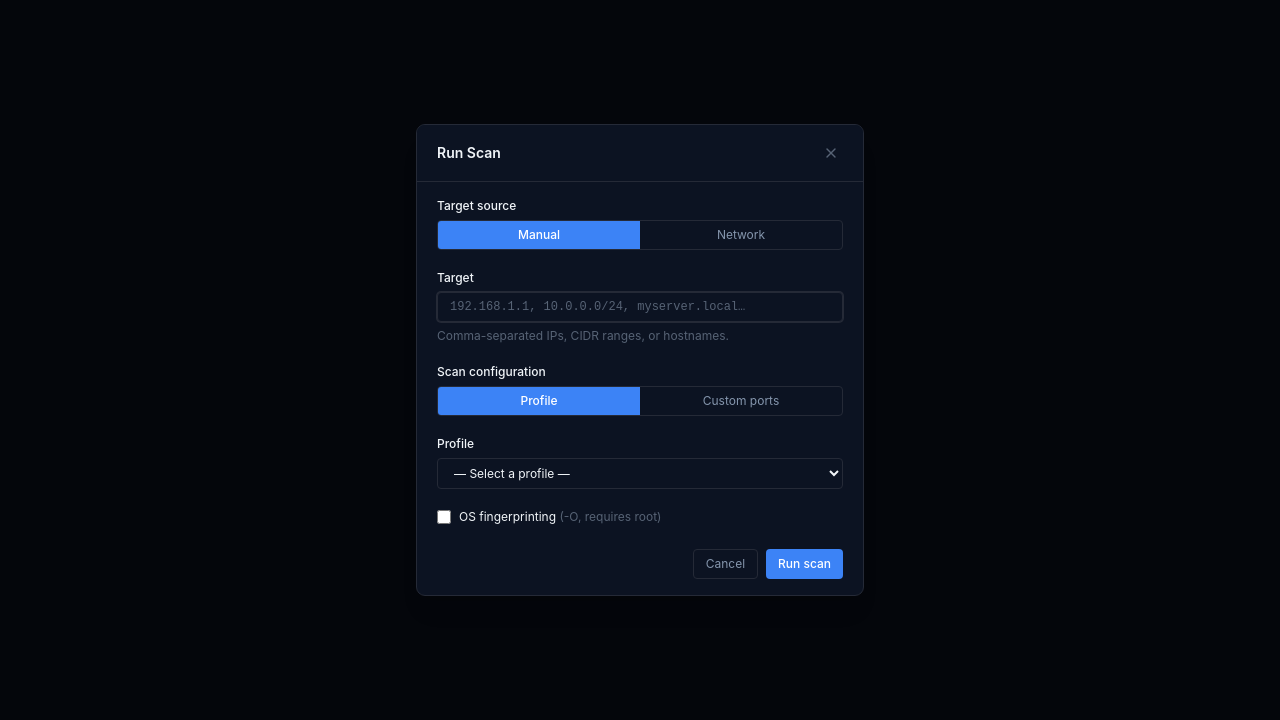
Test case: RunScanModal › shows ports and scan type inputs in custom mode
Click the radio button labelled "Custom ports". click: (741, 401)
box: [640,387,842,415]
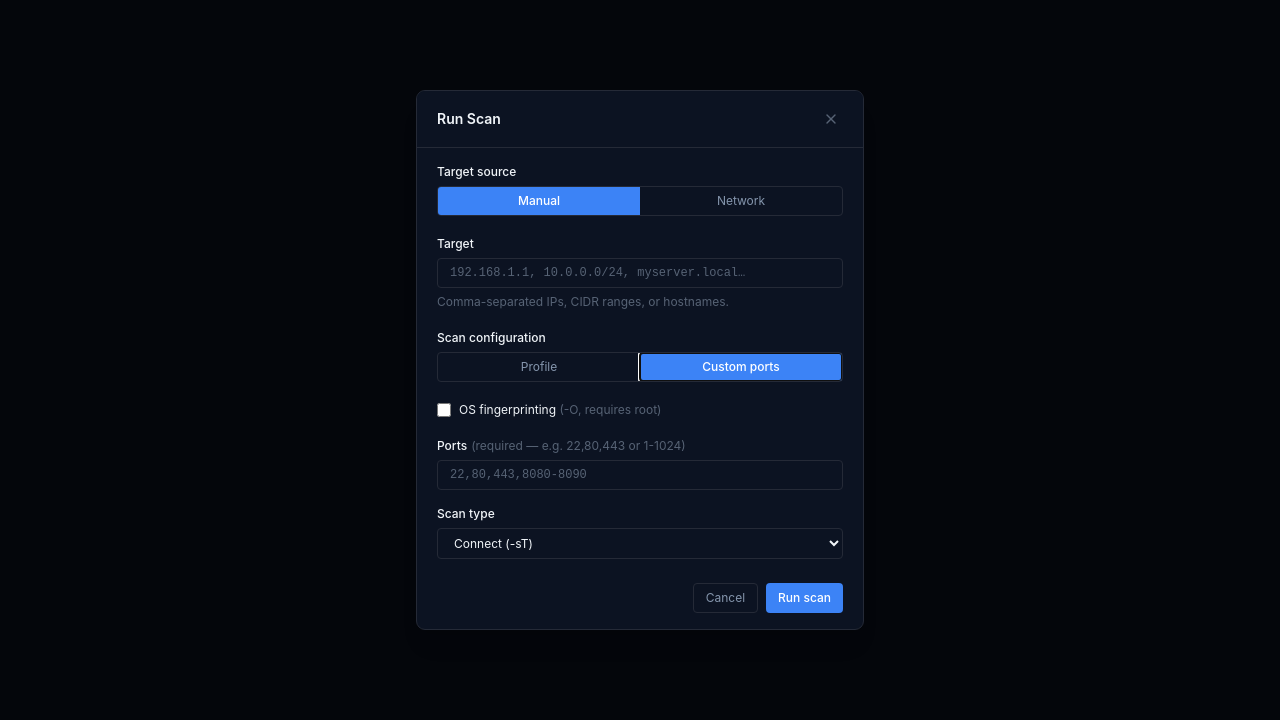
Expected: the field labelled "Ports(required — e.g. 22,80,443 or 1-1024)" is shown, [437,460,843,490]
Expected: the dropdown named "Select scan type" is shown, [437,528,843,559]
